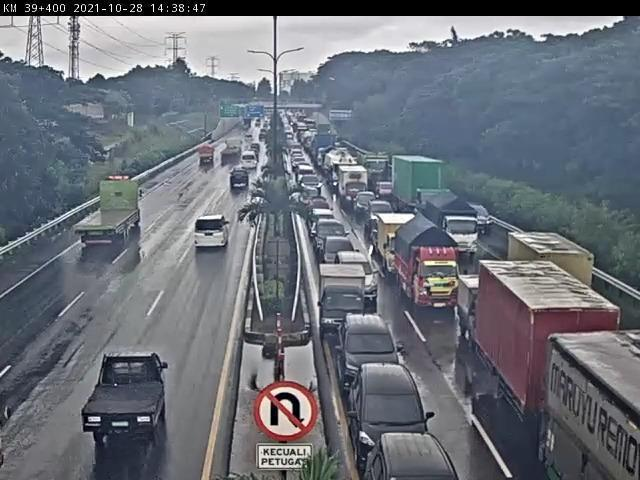bus: (241, 150, 259, 172)
car: (350, 366, 437, 465), (336, 315, 400, 399), (365, 434, 462, 480), (337, 253, 382, 303), (321, 237, 362, 278), (313, 220, 351, 259), (195, 214, 232, 254), (368, 200, 396, 232), (311, 208, 336, 238), (357, 193, 378, 218), (230, 173, 254, 194)
truck: (480, 260, 627, 447), (84, 356, 175, 448), (506, 231, 589, 328), (395, 217, 464, 314), (73, 176, 145, 248), (460, 275, 523, 352), (392, 155, 452, 224), (318, 262, 370, 338), (425, 191, 483, 256), (378, 213, 421, 278), (340, 166, 370, 208), (221, 136, 246, 163), (198, 143, 217, 165)
